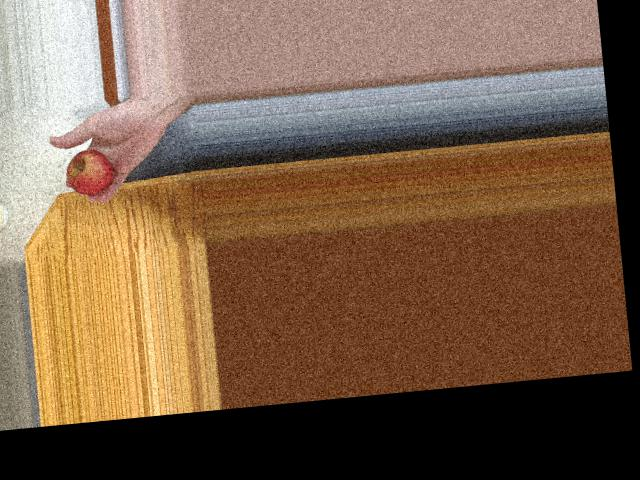apple: (63, 144, 119, 197)
